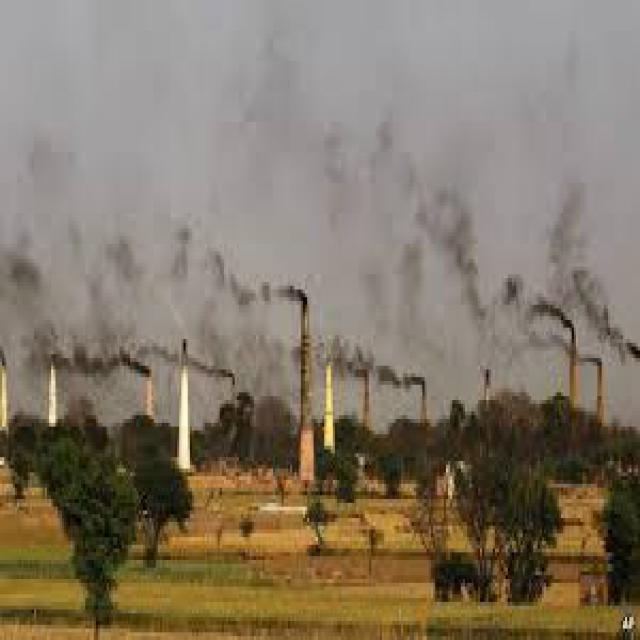Smoke: (548, 205, 624, 355), (5, 245, 74, 372), (445, 210, 490, 332), (316, 349, 452, 386), (115, 299, 167, 384), (277, 250, 331, 315)
